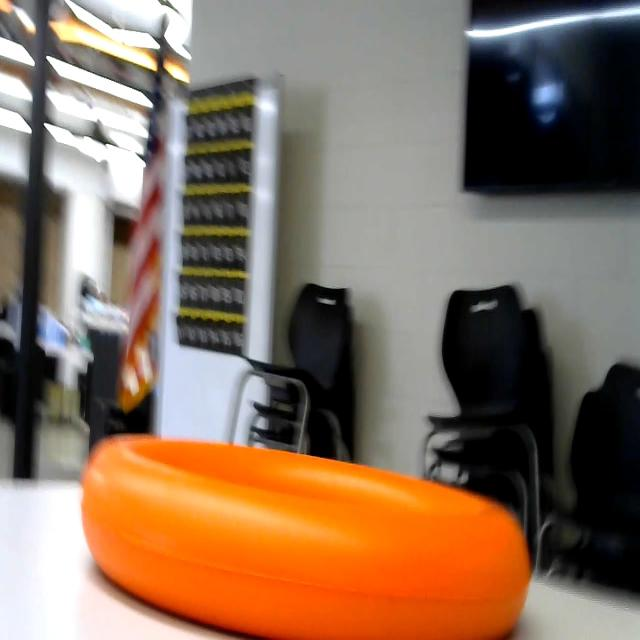note: (58, 428, 554, 640)
